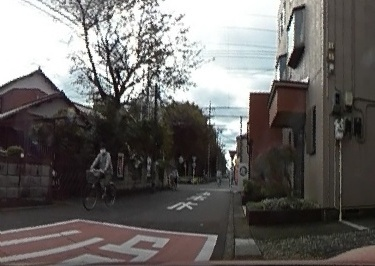person: (91, 144, 113, 199)
